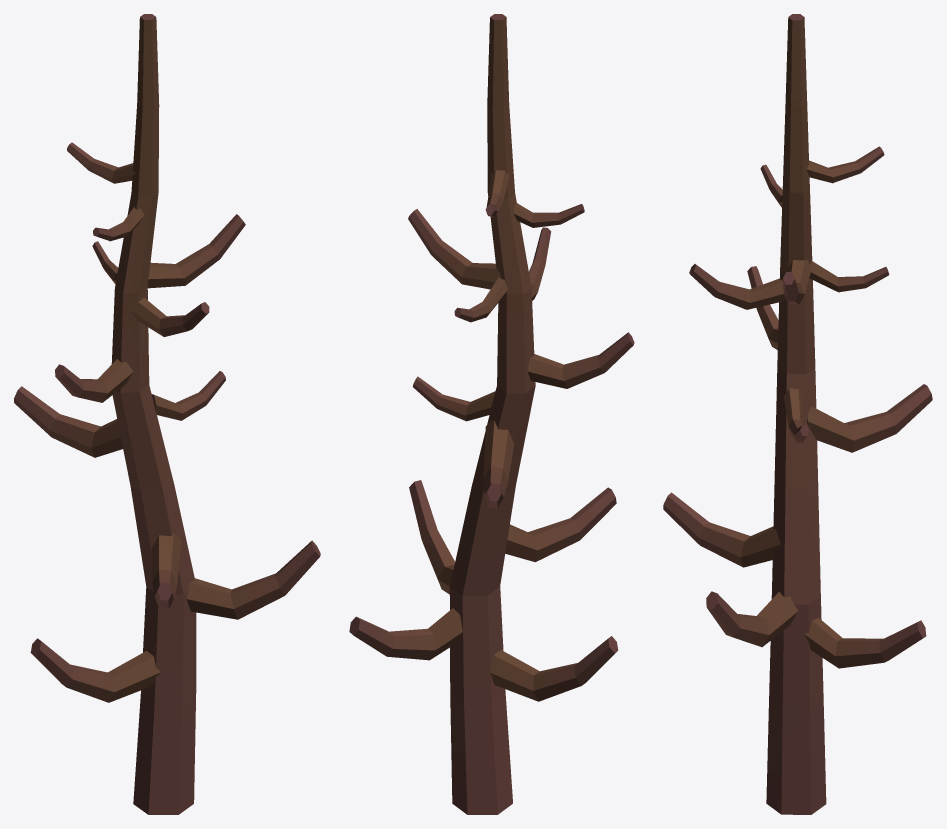
Rendered from deadtree3.fbx.
3 renders of one model, left to right at view 1: azimuth 30°, elevation 25°; view 2: azimuth 150°, elevation 25°; view 3: azimuth 270°, elevation 25°, orthographic.
Parts seen in each view (by area): view 1: Cylinder.012; view 2: Cylinder.012; view 3: Cylinder.012.
Part boxes in pixels (x1=…): Cylinder.012: x1=14, y1=14, x2=320, y2=814; Cylinder.012: x1=349, y1=14, x2=634, y2=814; Cylinder.012: x1=663, y1=14, x2=932, y2=814.
Size of the model in its own units: 277 by 846 by 265.
